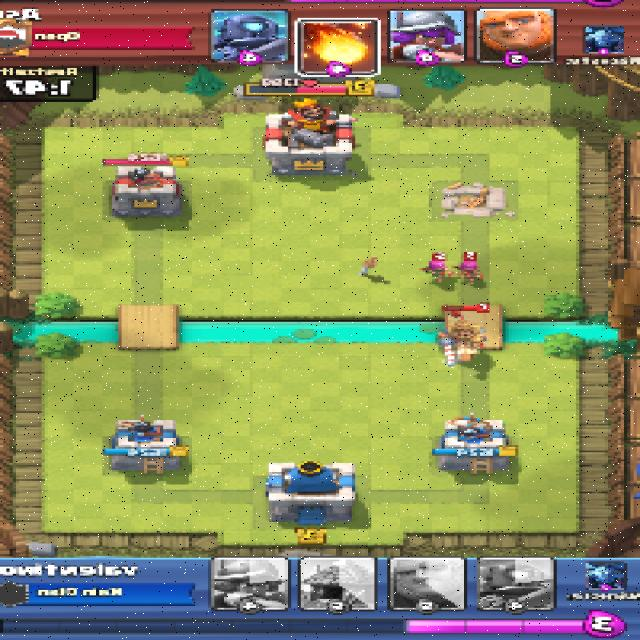Enemy-Archer: (454, 258, 482, 286), (422, 258, 453, 282)
Enemy-Prince: (434, 318, 488, 368)
